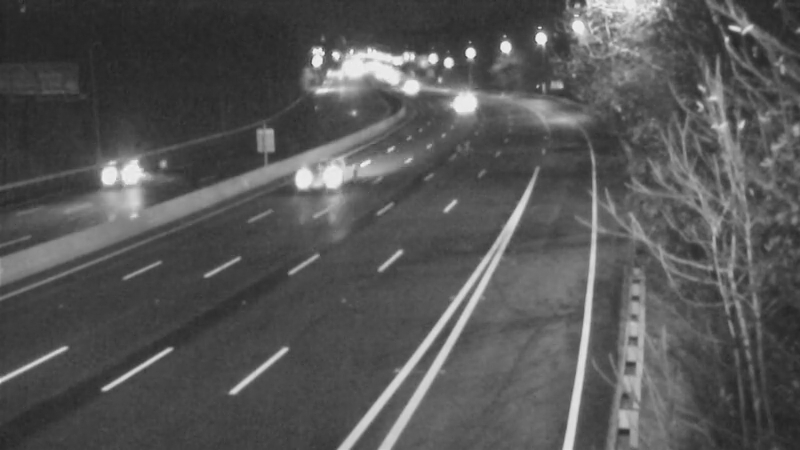vehicle: (276, 137, 356, 217), (77, 134, 157, 214), (383, 62, 433, 112), (433, 75, 483, 125)
